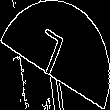L_SW: (35, 26, 75, 84)
